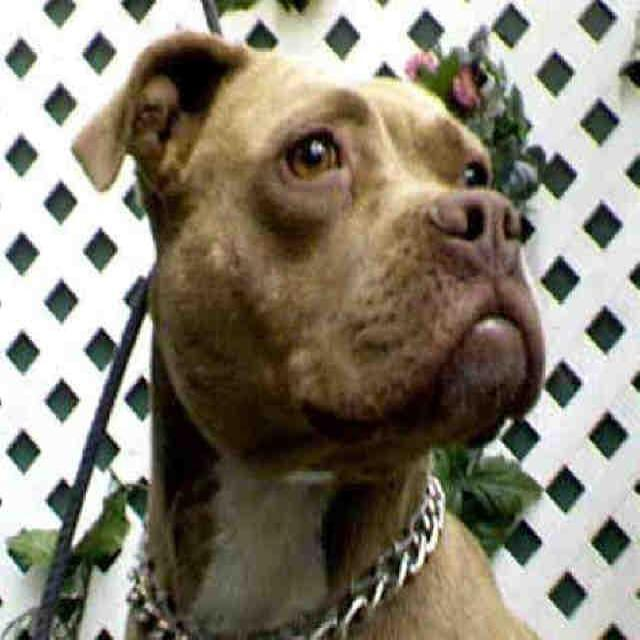staffordshire_bullterrier: (69, 30, 543, 638)
